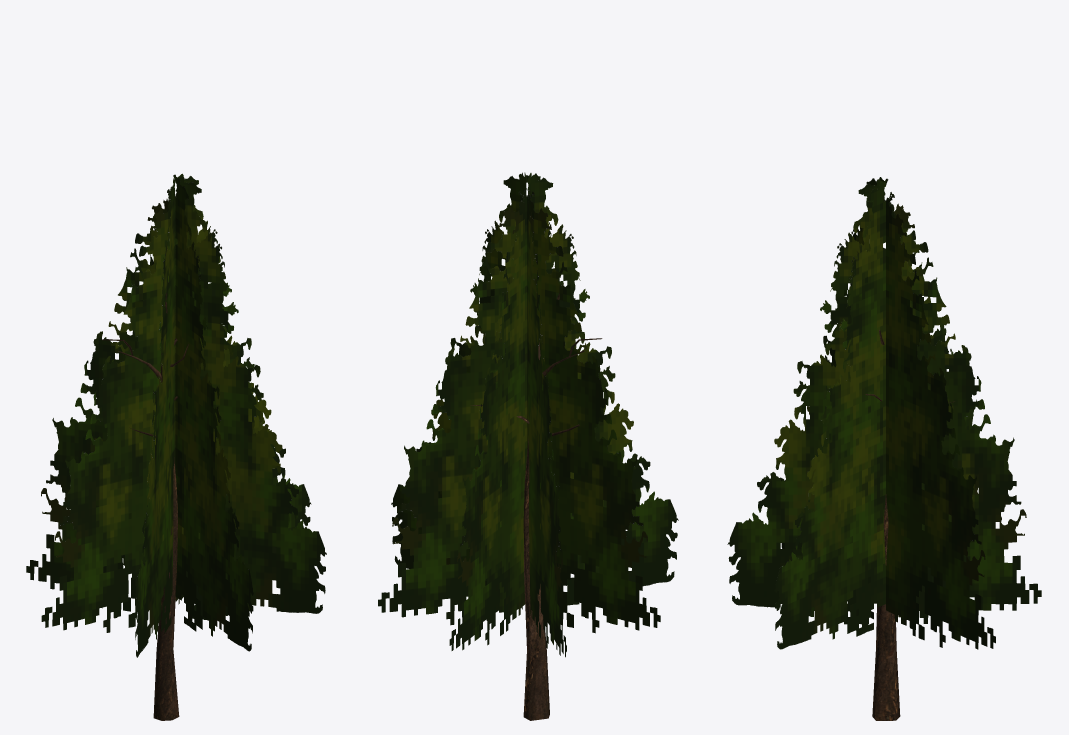
The model's file is PineTree.fbx.
3 renders of one model, left to right at view 1: azimuth 30°, elevation 25°; view 2: azimuth 150°, elevation 25°; view 3: azimuth 270°, elevation 25°, orthographic.
Parts seen in each view (by area): view 1: PineTreeLeaves, PineTreewithLeaves; view 2: PineTreeLeaves, PineTreewithLeaves; view 3: PineTreeLeaves, PineTreewithLeaves.
Part boxes in pixels (bbox=[...]): PineTreeLeaves: bbox=[26, 173, 326, 657]; PineTreewithLeaves: bbox=[102, 282, 188, 720]; PineTreeLeaves: bbox=[378, 172, 678, 657]; PineTreewithLeaves: bbox=[470, 283, 602, 720]; PineTreeLeaves: bbox=[727, 177, 1041, 649]; PineTreewithLeaves: bbox=[865, 330, 954, 720].
Size of the model in its own units: 681 by 1418 by 681.
Materials: 2 (2 with a texture image).
